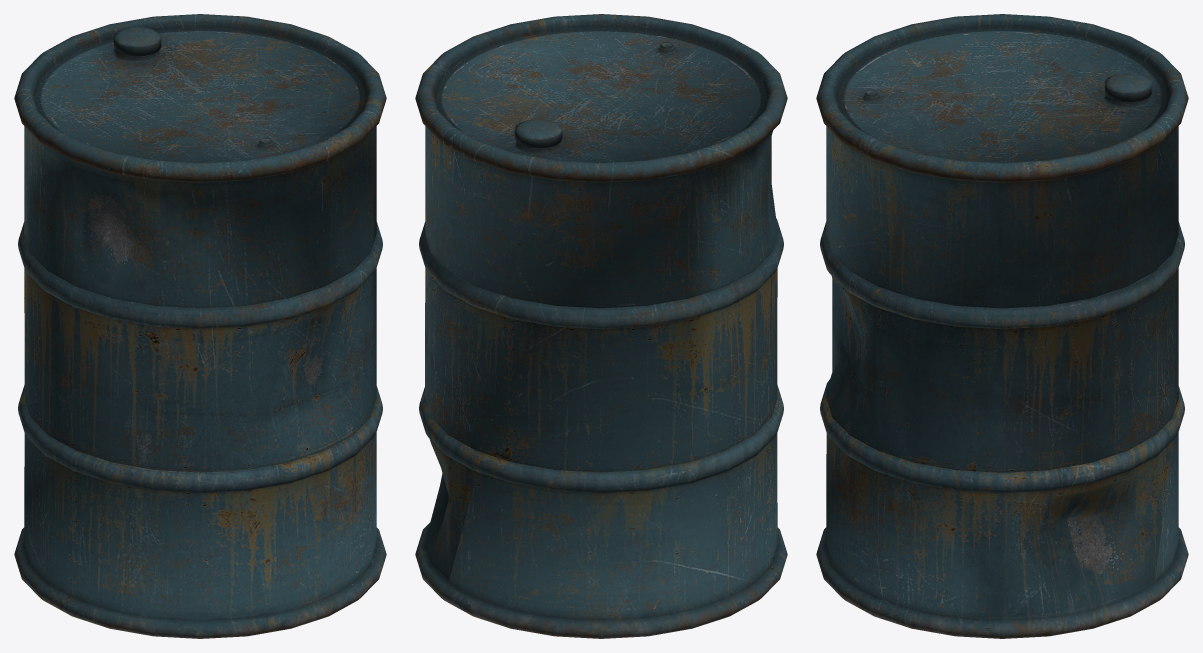
Rendered from can.glb.
3 renders of one model, left to right at view 1: azimuth 30°, elevation 25°; view 2: azimuth 150°, elevation 25°; view 3: azimuth 270°, elevation 25°, orthographic.
Visible parts, largest first — view 1: fuel_can; view 2: fuel_can; view 3: fuel_can.
Boxes of the visible parts, x1=… form: fuel_can: x1=14, y1=14, x2=386, y2=638; fuel_can: x1=415, y1=14, x2=787, y2=638; fuel_can: x1=816, y1=14, x2=1188, y2=638.
Size of the model in its own units: 1.48 by 2.12 by 1.48.
1 material, 1 textured.
